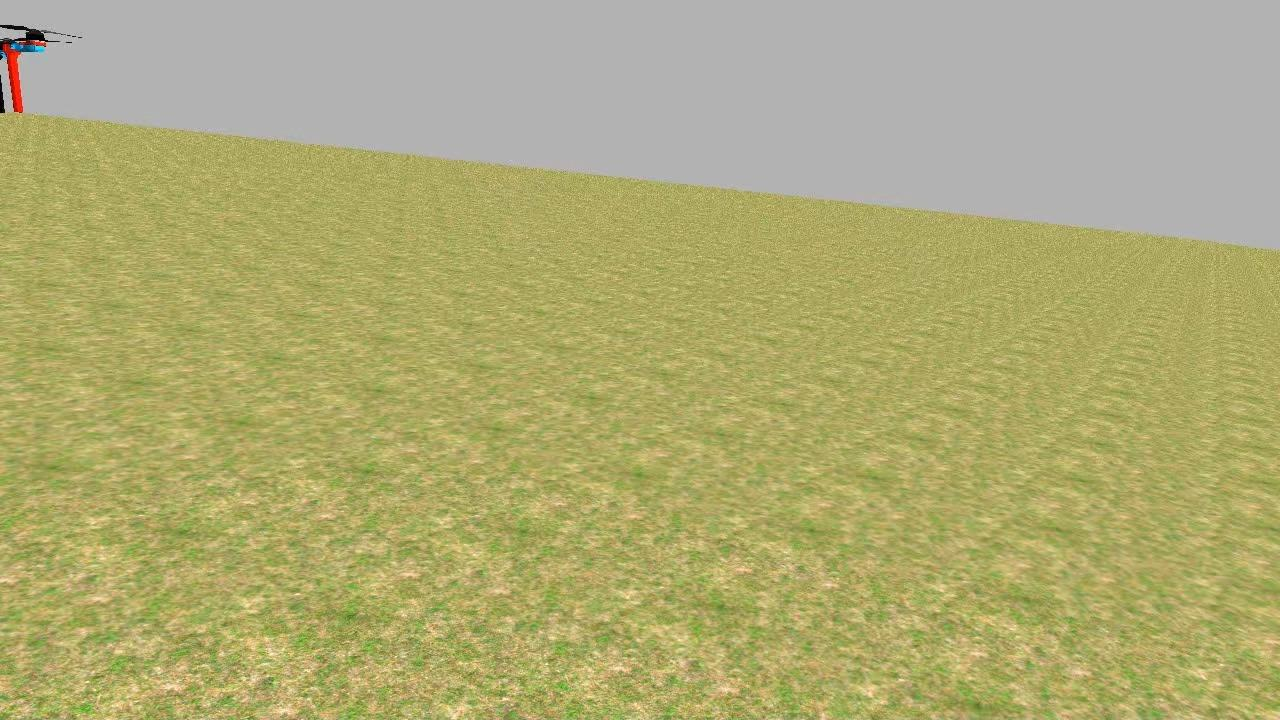UAV: (0, 15, 83, 115)
